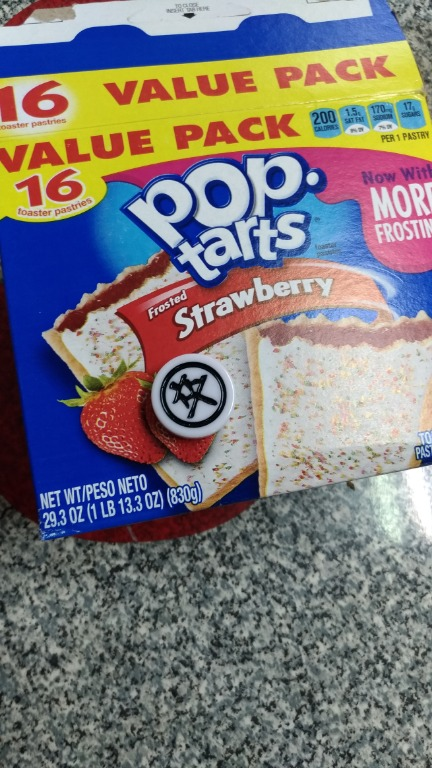b-pawn: (147, 347, 251, 447)
